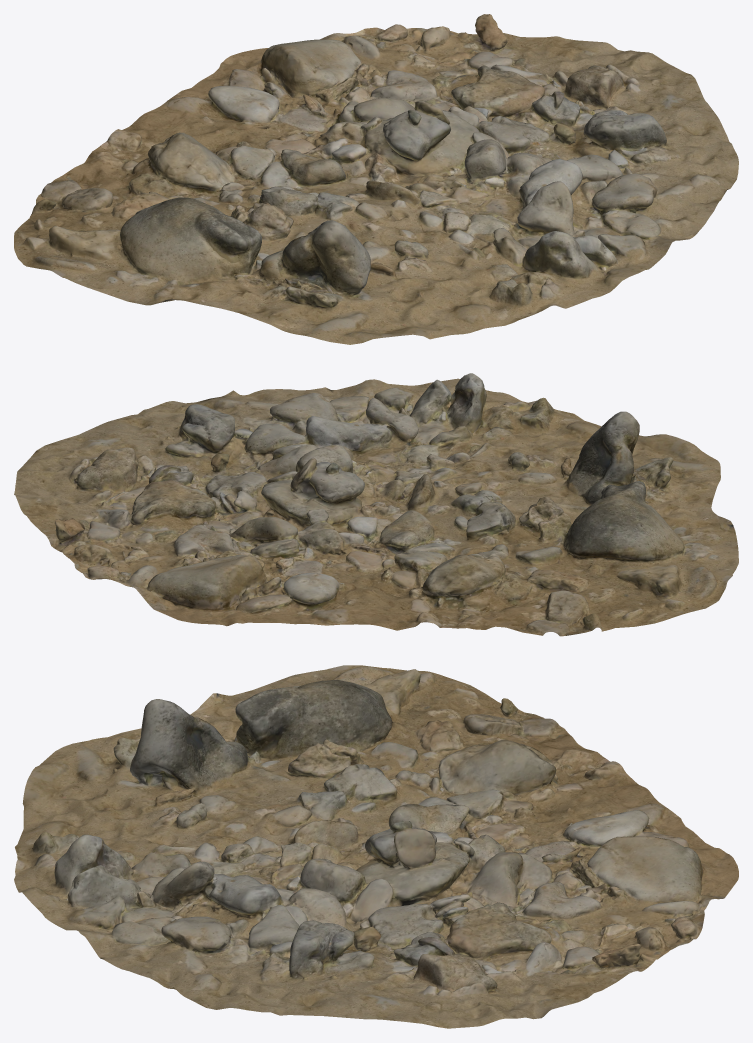
File: sand_rocks_small_01.glb
3 renders of one model, top to bottom at view 1: azimuth 30°, elevation 25°; view 2: azimuth 150°, elevation 25°; view 3: azimuth 270°, elevation 25°, orthographic. The views are drawn at different scales.
Visible parts, largest first — view 1: sand_rocks_small_01_LOD0; view 2: sand_rocks_small_01_LOD0; view 3: sand_rocks_small_01_LOD0.
Boxes of the visible parts, box(x1,y1,x2,y2) form: sand_rocks_small_01_LOD0: box(14, 14, 738, 344); sand_rocks_small_01_LOD0: box(14, 373, 738, 636); sand_rocks_small_01_LOD0: box(14, 665, 738, 1028).
Bounding box in the file's own units: 4.63 × 0.5348 × 3.88.
Materials: 1 (1 with a texture image).
